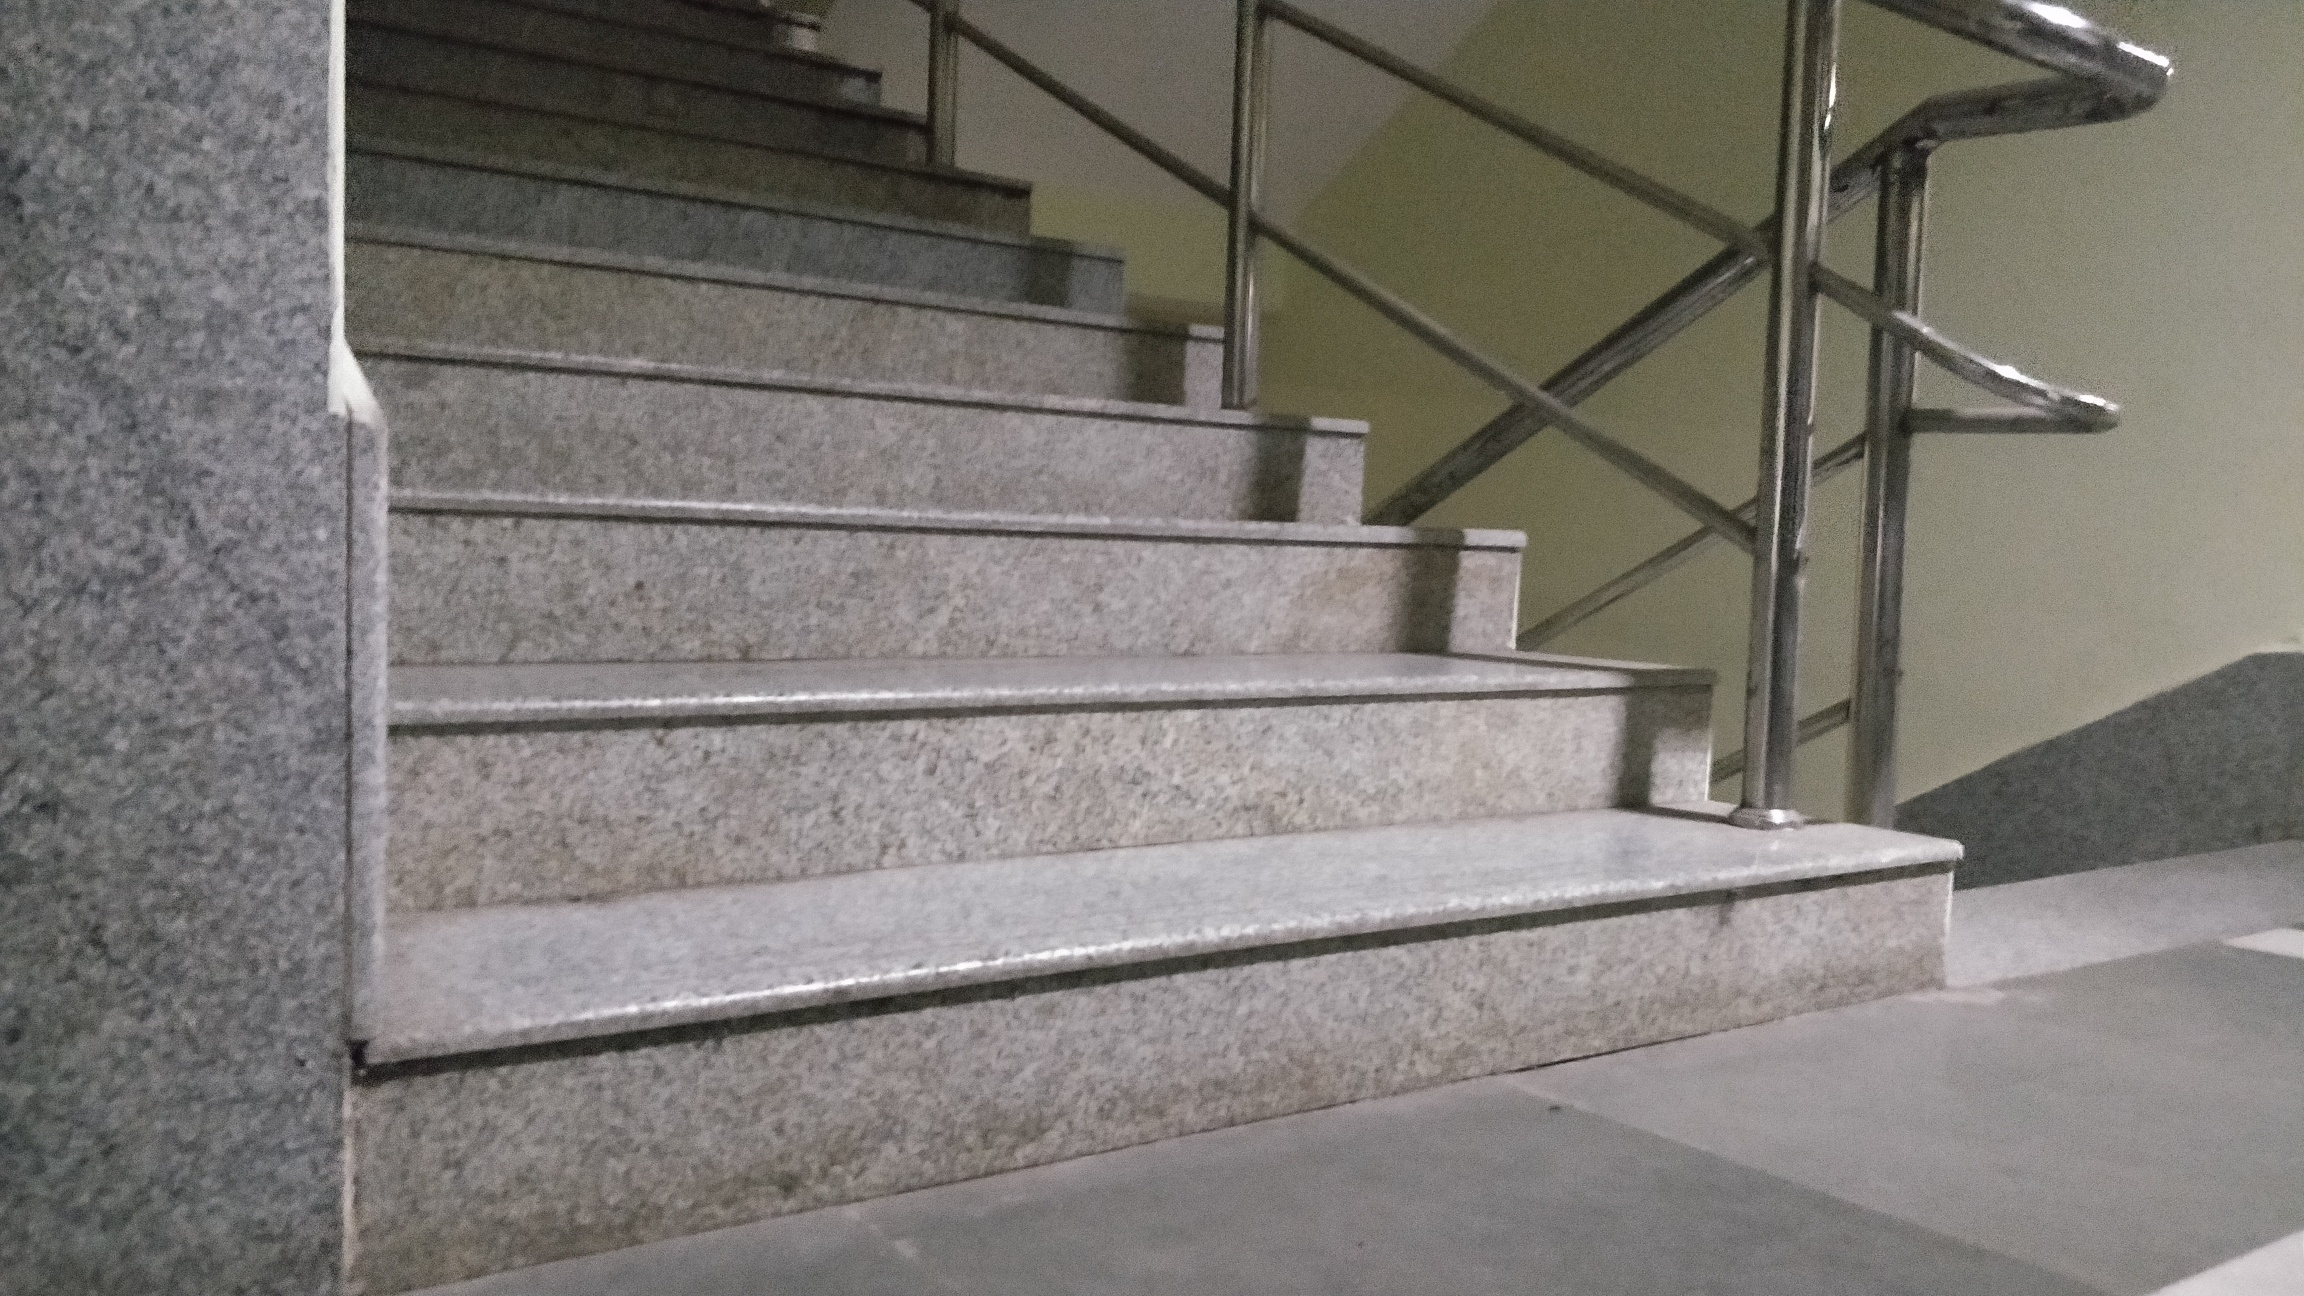stairs_up: (351, 25, 1950, 1120)
